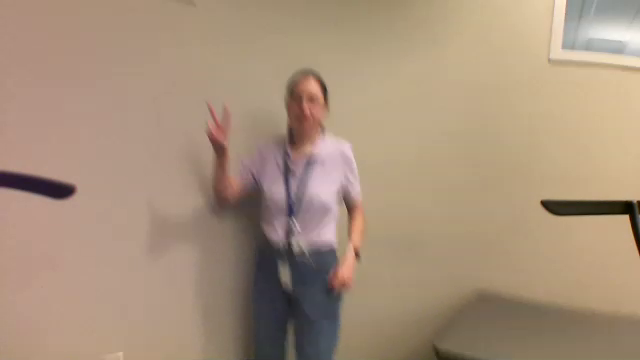peace: (202, 99, 234, 150)
